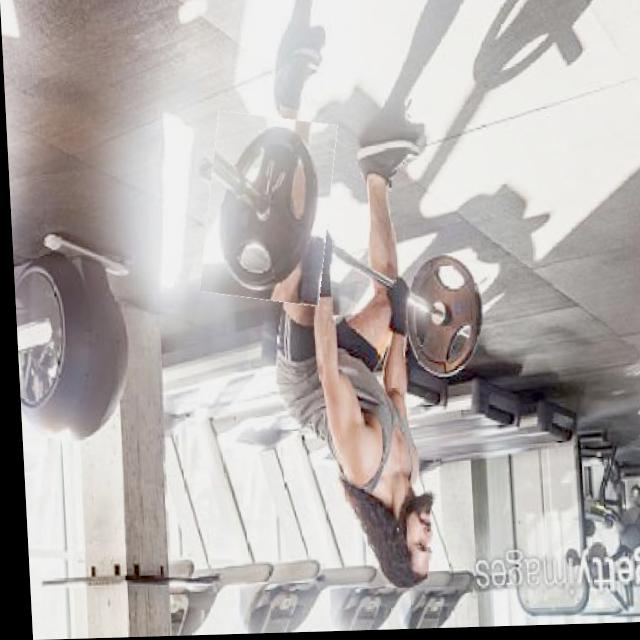barbell: (197, 115, 337, 307)
